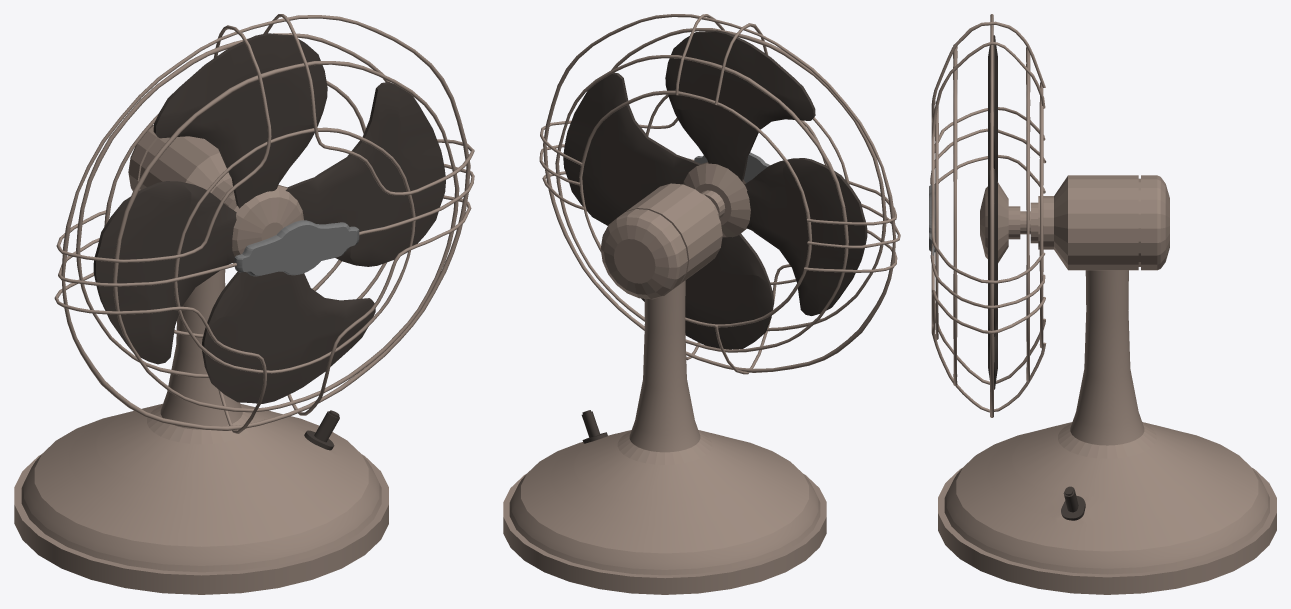
File: AP_fan02_TL.fbx
3 views of the same model, side by side, from view 1: azimuth 30°, elevation 25°; view 2: azimuth 150°, elevation 25°; view 3: azimuth 270°, elevation 25° (orthographic). The views are drawn at different scales.
Parts seen in each view (by area): view 1: pPlane6, pCylinder1, pPlane7, pCylinder2; view 2: pCylinder1, pPlane6, pPlane7, pCylinder2; view 3: pCylinder1, pCylinder2, pPlane7, pPlane6.
Boxes of the visible parts, bbox=[...] form: pPlane6: bbox=[93, 33, 445, 403]; pCylinder1: bbox=[14, 269, 388, 594]; pPlane7: bbox=[54, 14, 474, 433]; pCylinder2: bbox=[128, 125, 303, 263]; pCylinder1: bbox=[503, 280, 826, 594]; pPlane6: bbox=[563, 30, 867, 349]; pPlane7: bbox=[539, 14, 900, 374]; pCylinder2: bbox=[600, 162, 750, 299]; pCylinder1: bbox=[938, 270, 1276, 594]; pCylinder2: bbox=[980, 175, 1169, 270]; pPlane7: bbox=[929, 14, 1046, 417]; pPlane6: bbox=[988, 35, 997, 389].
Size of the model in its own units: 5.54 by 6.93 by 4.46.
